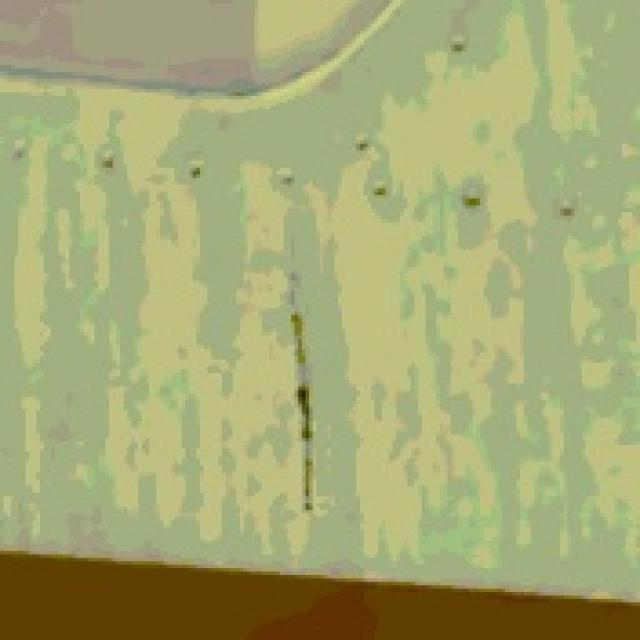crack: (229, 270, 342, 503)
